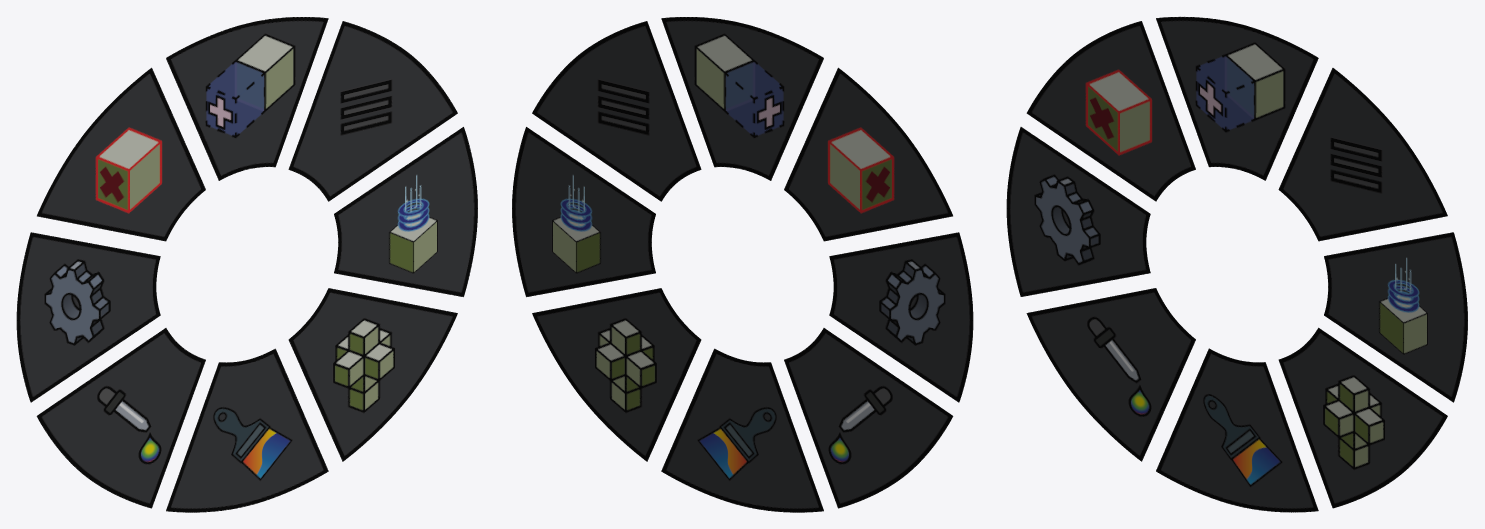
The model's file is RadialMenu.fbx.
3 views of the same model, side by side, from view 1: azimuth 30°, elevation 25°; view 2: azimuth 150°, elevation 25°; view 3: azimuth 330°, elevation 25° (orthographic).
Visible parts, largest first — view 1: B5, B3, B1, B6, B2, B4, B7, B8; view 2: B5, B3, B1, B6, B2, B4, B7, B8; view 3: B3, B5, B7, B2, B6, B4, B8, B1.
Part boxes in pixels (x1,y1,x2,y2): B5: (166,348,328,512); B3: (16,232,160,402); B1: (166,17,328,180); B6: (288,288,457,461); B2: (37,67,205,241); B4: (36,328,205,508); B7: (334,127,477,297); B8: (288,21,457,201); B5: (661,348,823,512); B3: (829,232,973,402); B1: (661,17,823,180); B6: (532,288,701,461); B2: (784,67,952,241); B4: (784,328,953,508); B7: (512,127,655,297); B8: (532,21,701,201); B3: (1006,127,1150,296); B5: (1156,348,1318,512); B7: (1324,232,1467,402); B2: (1026,21,1195,201); B6: (1278,327,1447,508); B4: (1026,288,1195,461); B8: (1278,68,1447,241); B1: (1156,16,1318,180).
Bounding box in the file's own units: 14.66 × 14.66 × 0.
